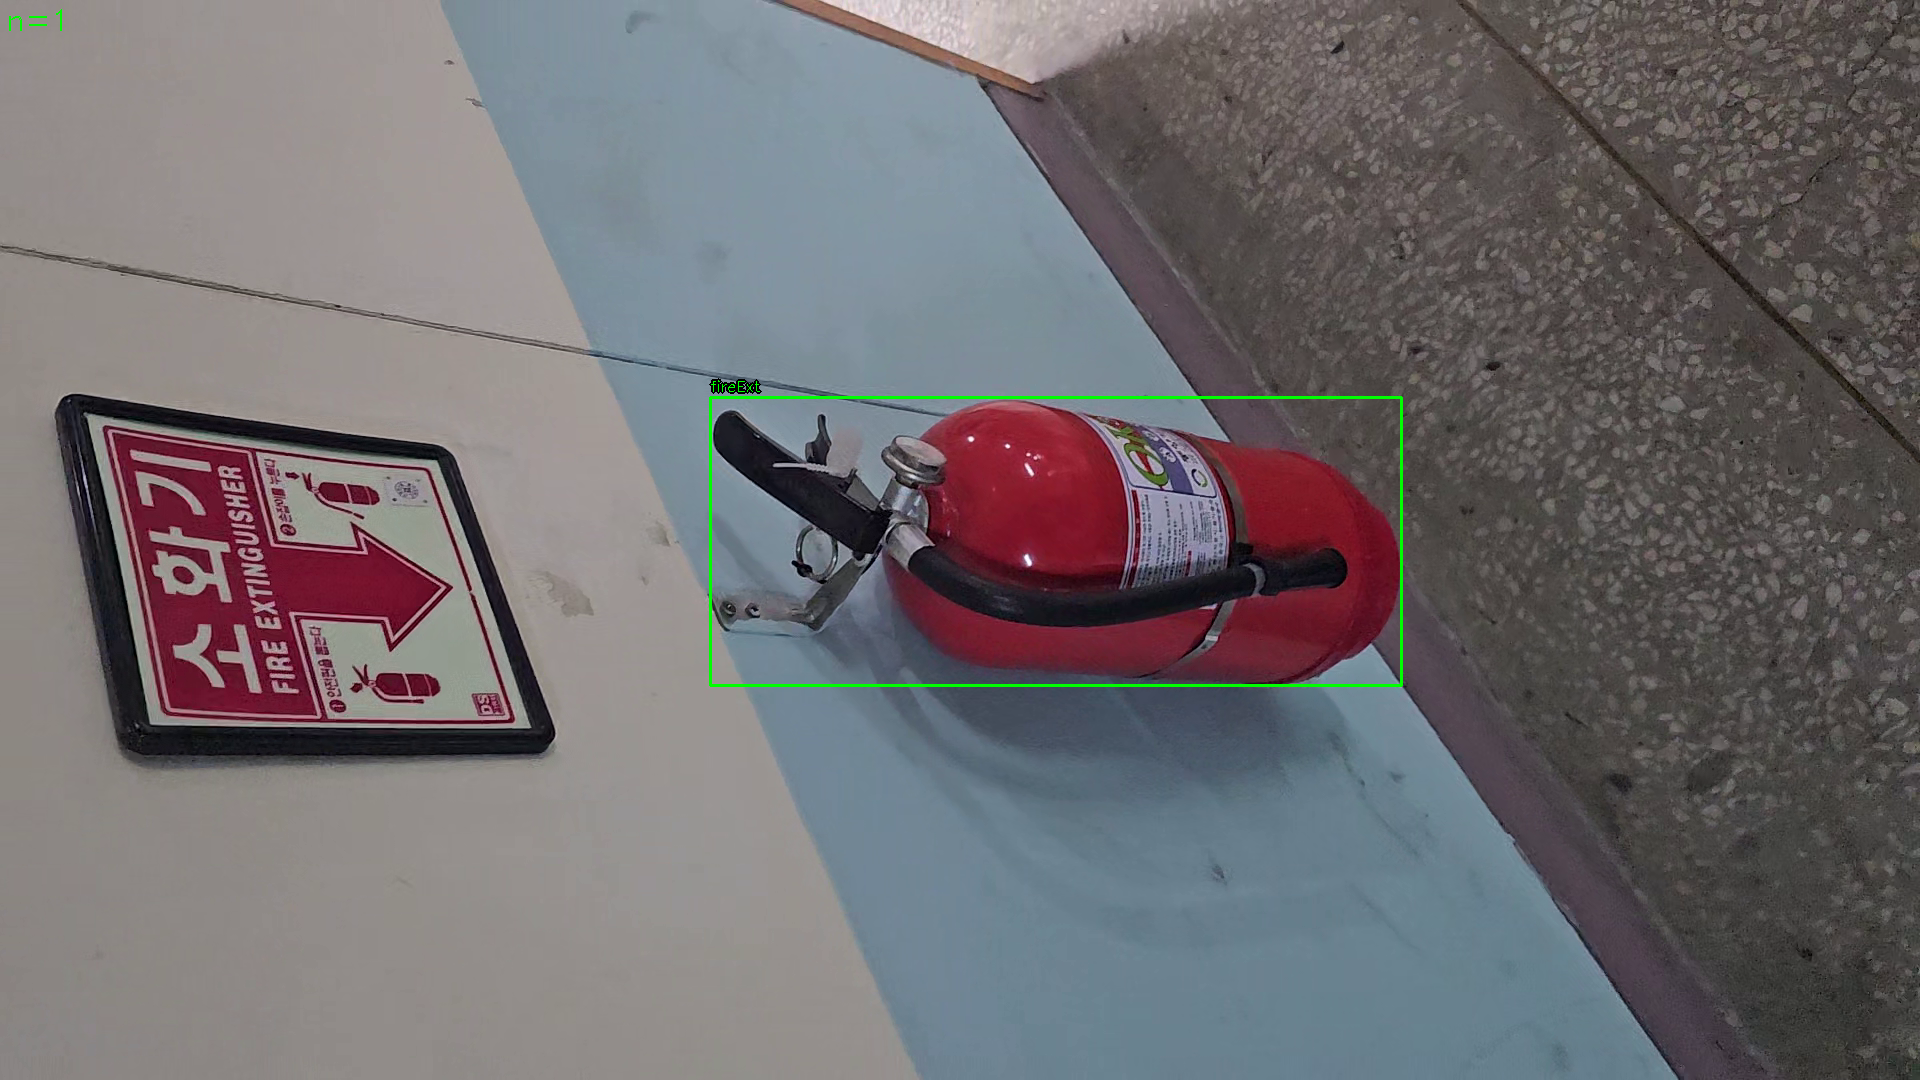lane: (709, 397, 1402, 686)
